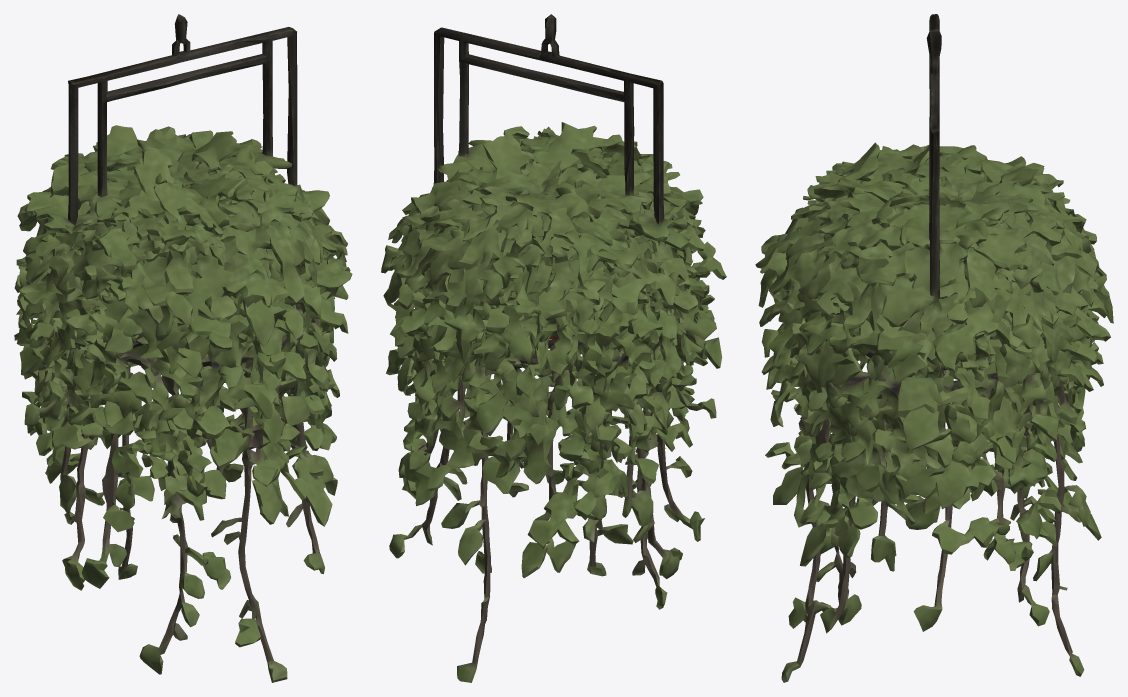
File: item_b24efe67.glb
3 renders of one model, left to right at view 1: azimuth 30°, elevation 25°; view 2: azimuth 150°, elevation 25°; view 3: azimuth 270°, elevation 25°, orthographic. The views are drawn at different scales.
Visible parts, largest first — view 1: world; view 2: world; view 3: world.
Boxes of the visible parts, <box> form: world: <box>14,14,352,682</box>; world: <box>381,14,726,682</box>; world: <box>755,14,1113,682</box>.
Size of the model in its own units: 0.4817 by 0.9 by 0.4588.
1 material, 1 textured.
